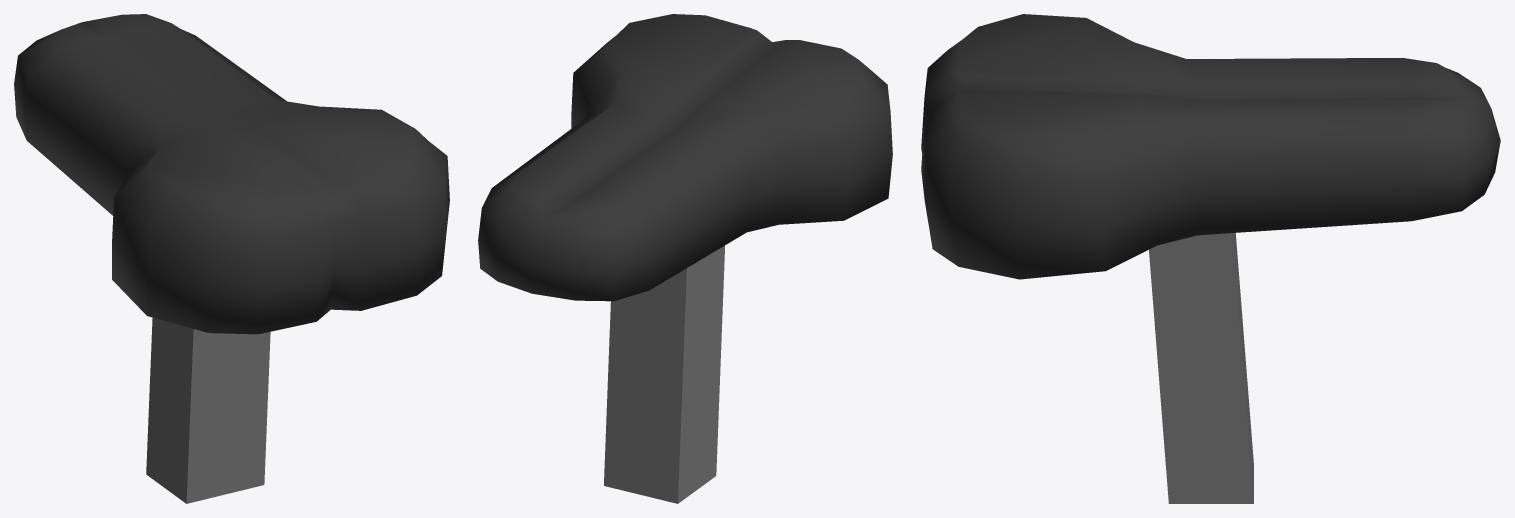
Rendered from exercise-bike-seat.glb.
3 renders of one model, left to right at view 1: azimuth 30°, elevation 25°; view 2: azimuth 150°, elevation 25°; view 3: azimuth 270°, elevation 25°, orthographic. The views are drawn at different scales.
Parts seen in each view (by area): view 1: Exercise_Bike_Seat; view 2: Exercise_Bike_Seat; view 3: Exercise_Bike_Seat.
Part boxes in pixels (left/top/right/bottom): Exercise_Bike_Seat: left=14, top=14, right=449, bottom=503; Exercise_Bike_Seat: left=478, top=14, right=892, bottom=503; Exercise_Bike_Seat: left=921, top=14, right=1500, bottom=503.
Bounding box in the file's own units: 23.48 × 28.73 × 37.03.
1 material, 1 textured.
